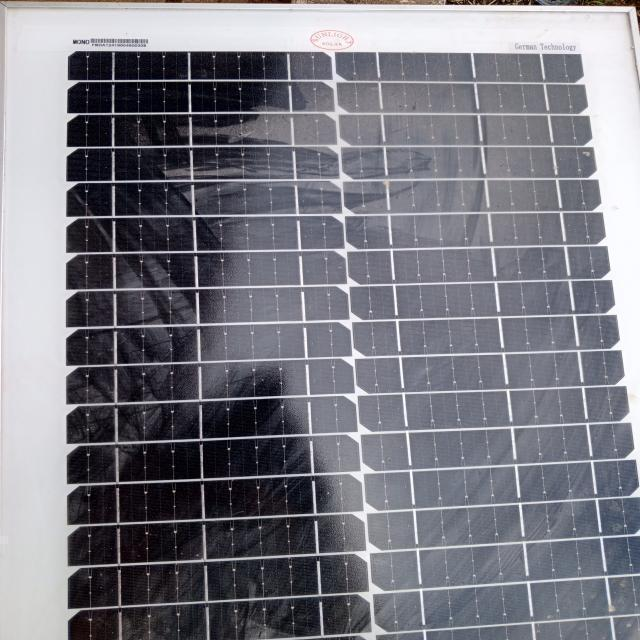Surface Contaminant: (262, 42, 612, 514)
